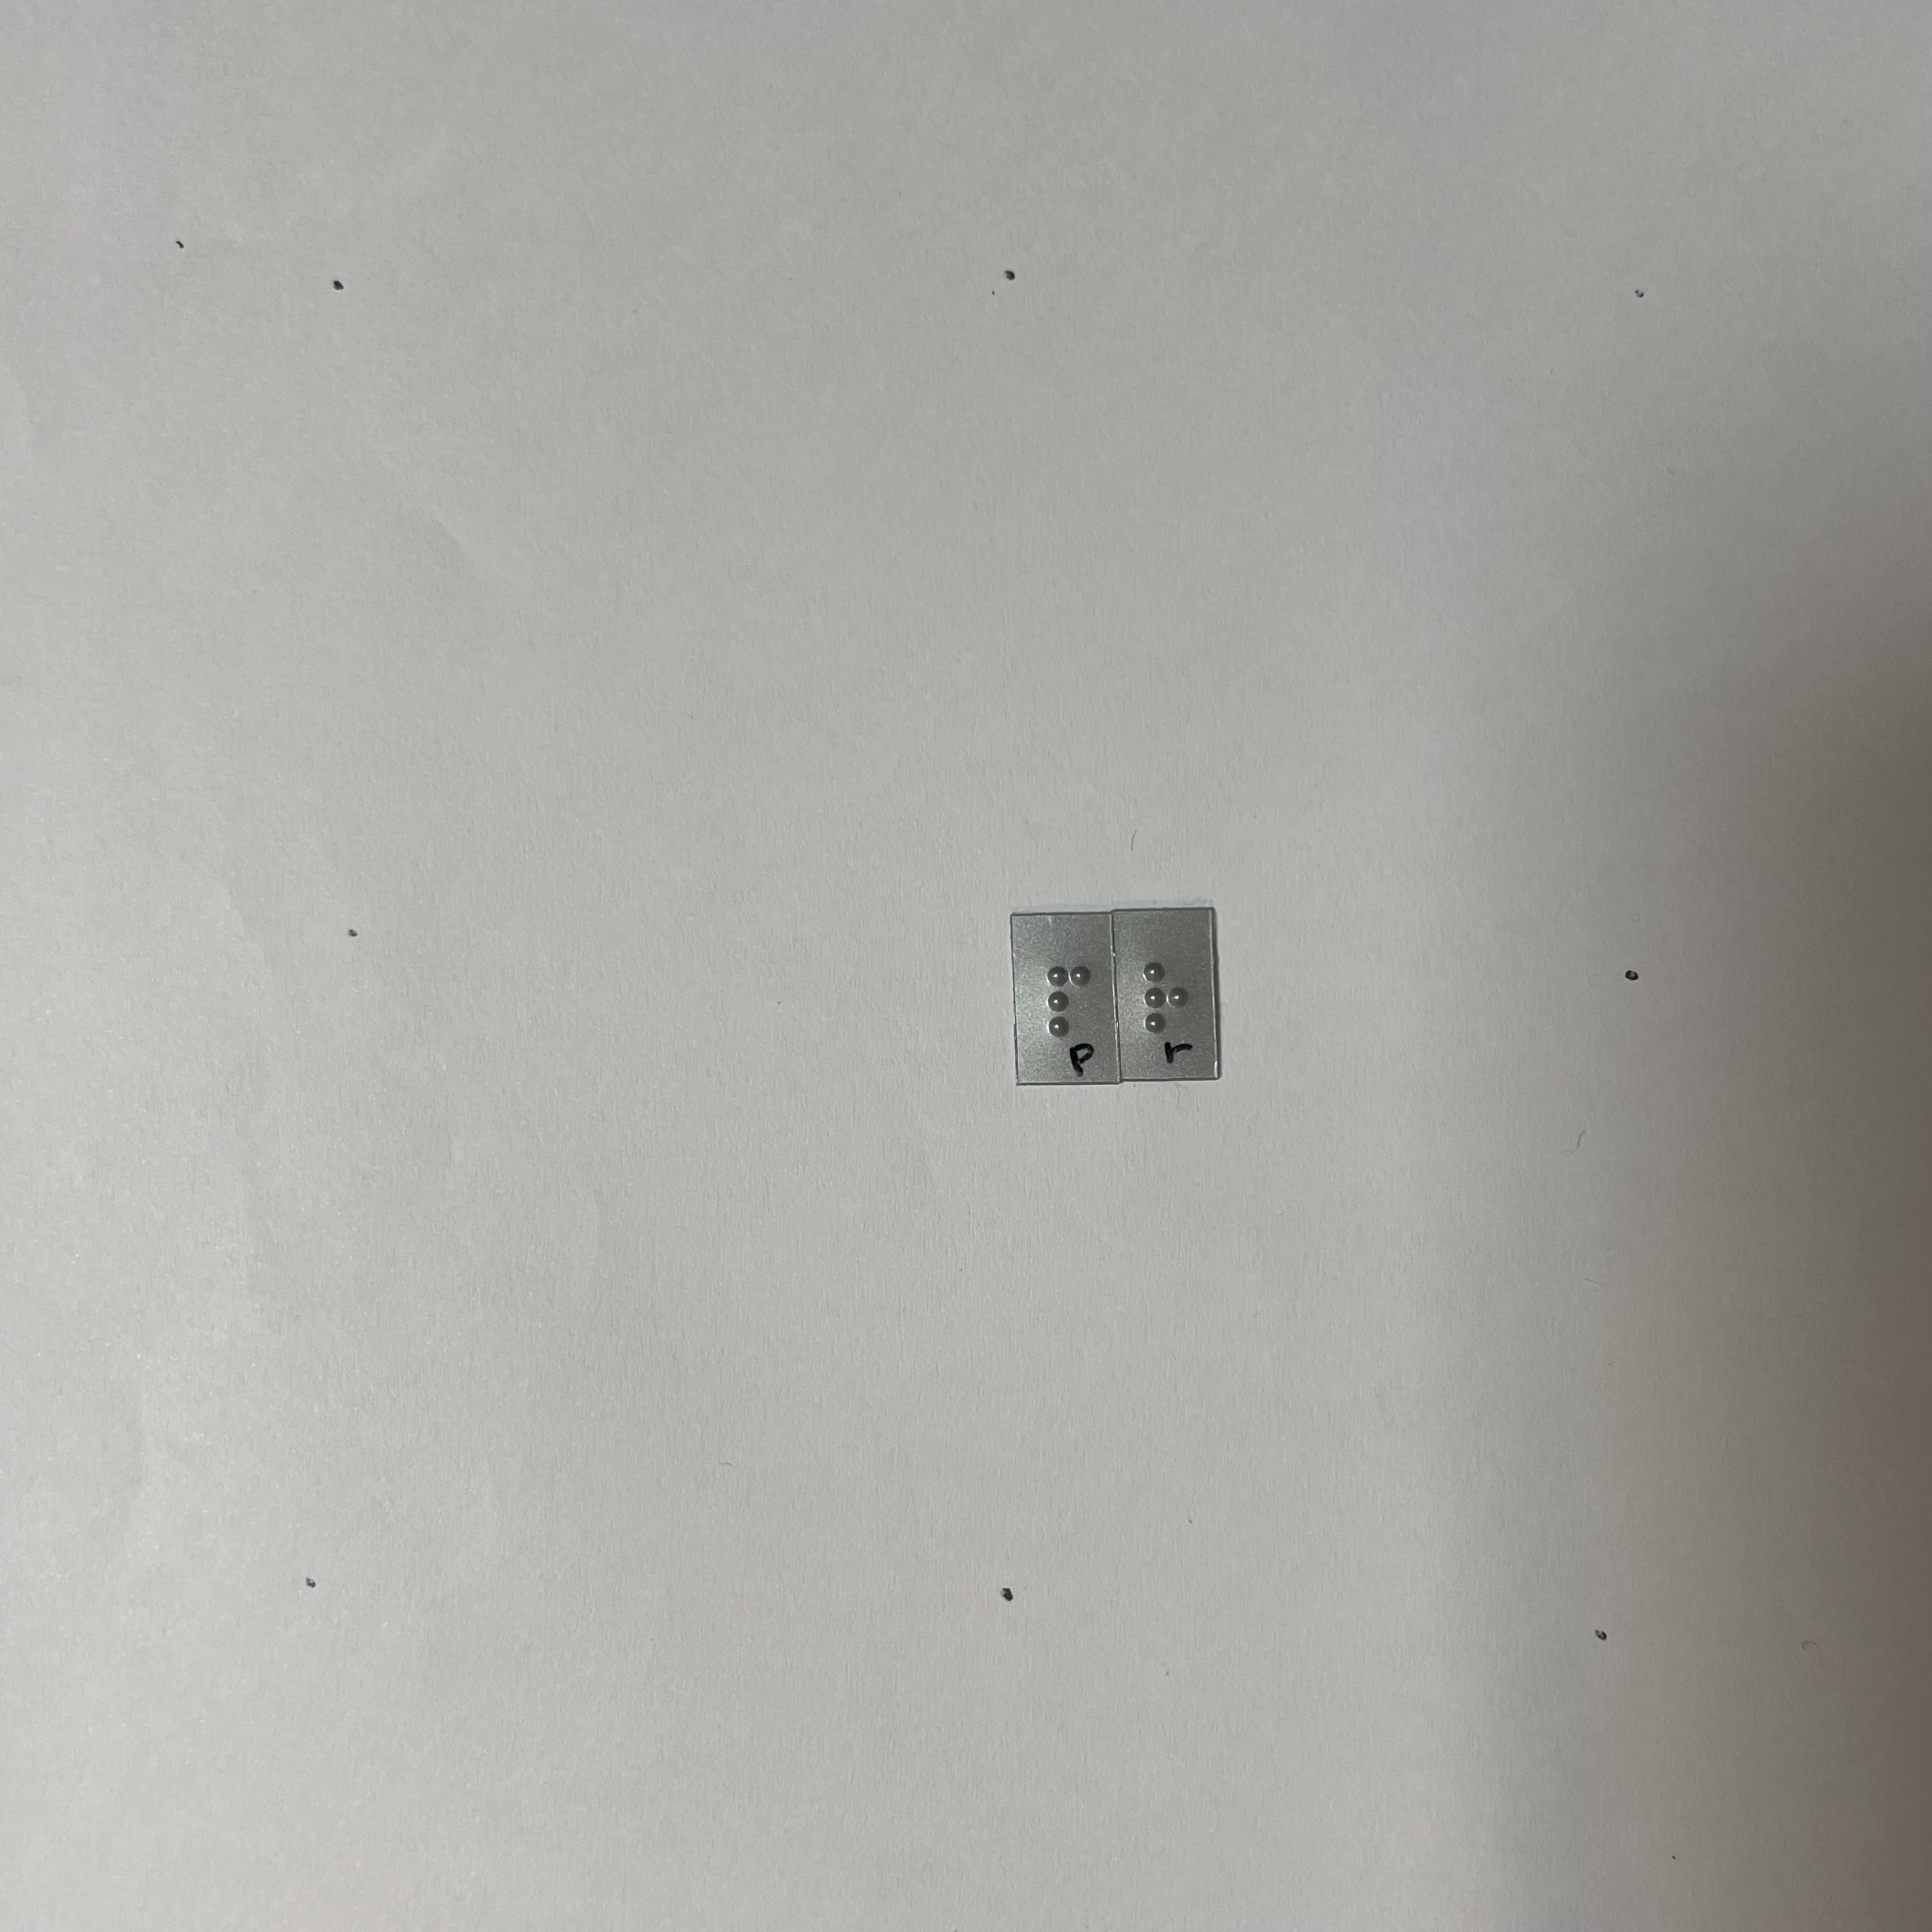p: (1040, 958, 1098, 1039)
r: (1137, 951, 1195, 1035)
